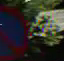No waiting: (0, 3, 33, 57)
